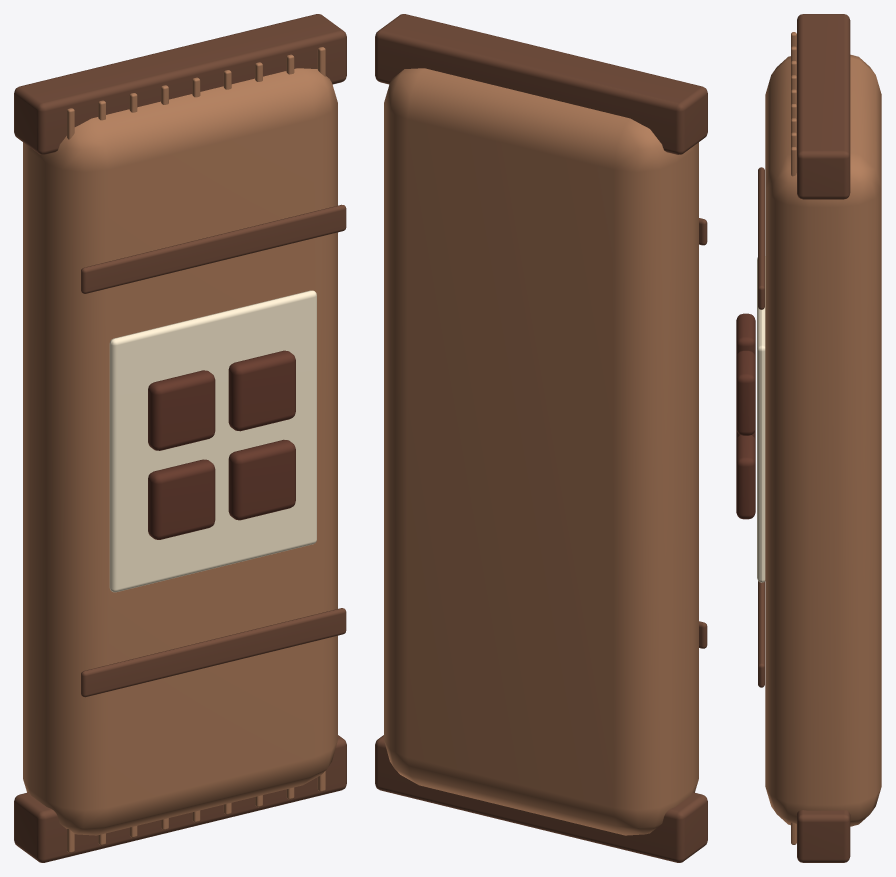
File: wrapped_chocolate.glb
The picture shows the model from 3 angles, left to right: view 1: azimuth 30°, elevation 25°; view 2: azimuth 150°, elevation 25°; view 3: azimuth 270°, elevation 25°; orthographic projection. The views are drawn at different scales.
Parts seen in each view (by area): view 1: Sealed plastic pack.001, Cream flavor label.001, Crimped end.003, Package band.002, Package band.003, Crimped end.002, Cocoa square, Cocoa square.002, Cocoa square.001, Cocoa square.003; view 2: Sealed plastic pack.001, Crimped end.003, Crimped end.002; view 3: Sealed plastic pack.001, Crimped end.003, Crimped end.002, Cream flavor label.001, Cocoa square.003, Cocoa square.002, Package band.003, Cocoa square.001, Package band.002.
Boxes of the visible parts, x1,y1,x2,y2 form: Sealed plastic pack.001: (23,68,337,835); Cream flavor label.001: (109,290,316,592); Crimped end.003: (14,14,346,154); Package band.002: (81,608,346,697); Package band.003: (81,204,346,293); Crimped end.002: (14,735,346,862); Cocoa square: (148,459,215,539); Cocoa square.002: (228,439,295,520); Cocoa square.001: (148,370,215,450); Cocoa square.003: (228,350,295,431); Sealed plastic pack.001: (384,68,698,835); Crimped end.003: (375,14,707,154); Crimped end.002: (375,735,707,862); Sealed plastic pack.001: (765,54,881,826); Crimped end.003: (797,14,850,199); Crimped end.002: (797,810,850,862); Cream flavor label.001: (757,256,765,582); Cocoa square.003: (736,350,755,435); Cocoa square.002: (736,435,755,519); Package band.003: (758,167,764,309); Cocoa square.001: (736,313,755,356); Package band.002: (758,581,764,687).
Bounding box in the file's own units: 0.69 × 1.62 × 0.3.
